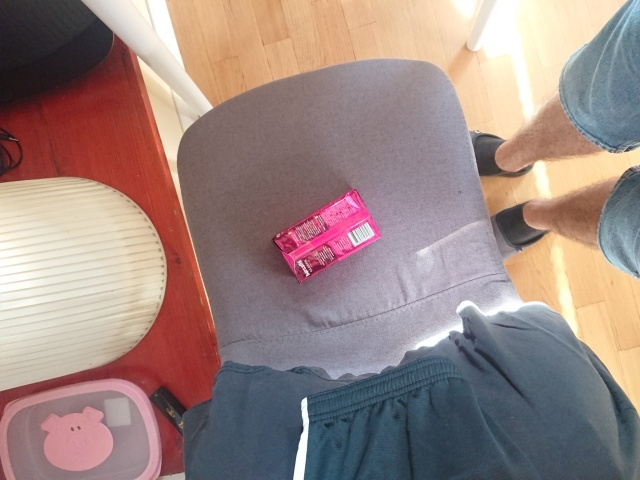Barcaffe Classic Original 225g: (270, 187, 383, 286)
